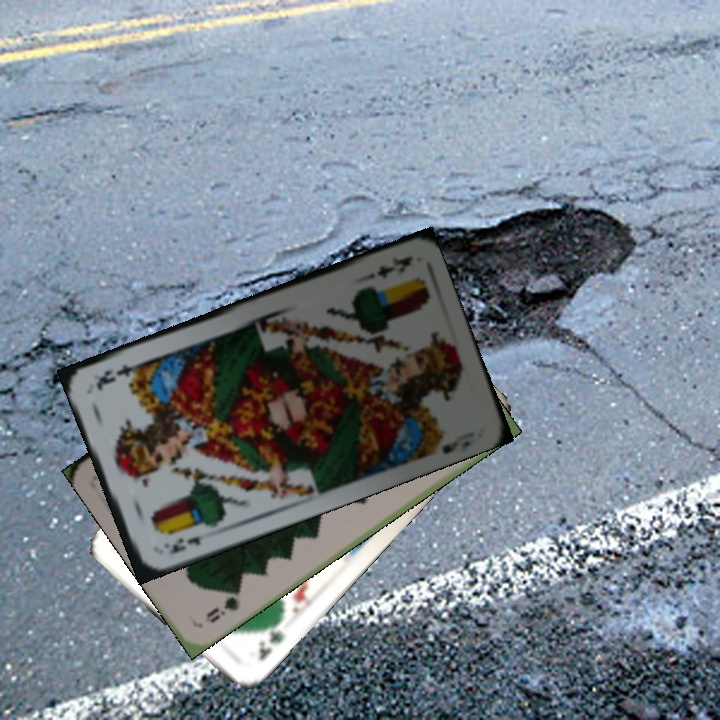EK: (359, 251, 415, 284), (160, 532, 204, 557)
G9: (202, 583, 244, 626)
GK: (254, 618, 287, 664)
